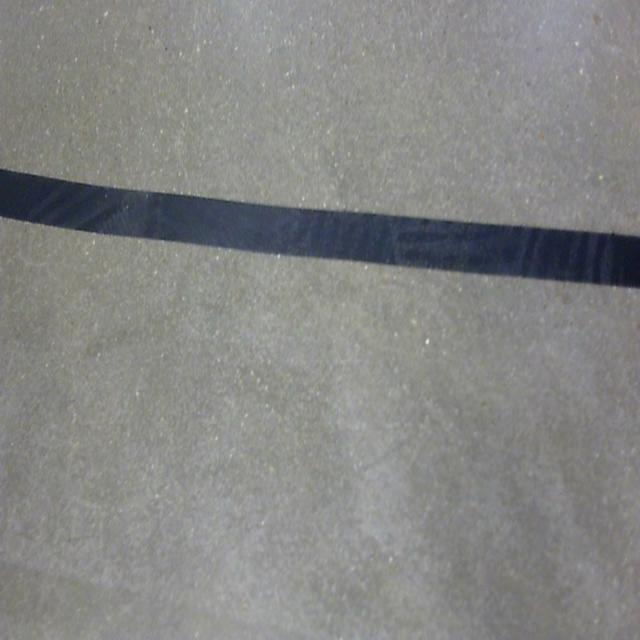tape: (0, 141, 640, 330)
